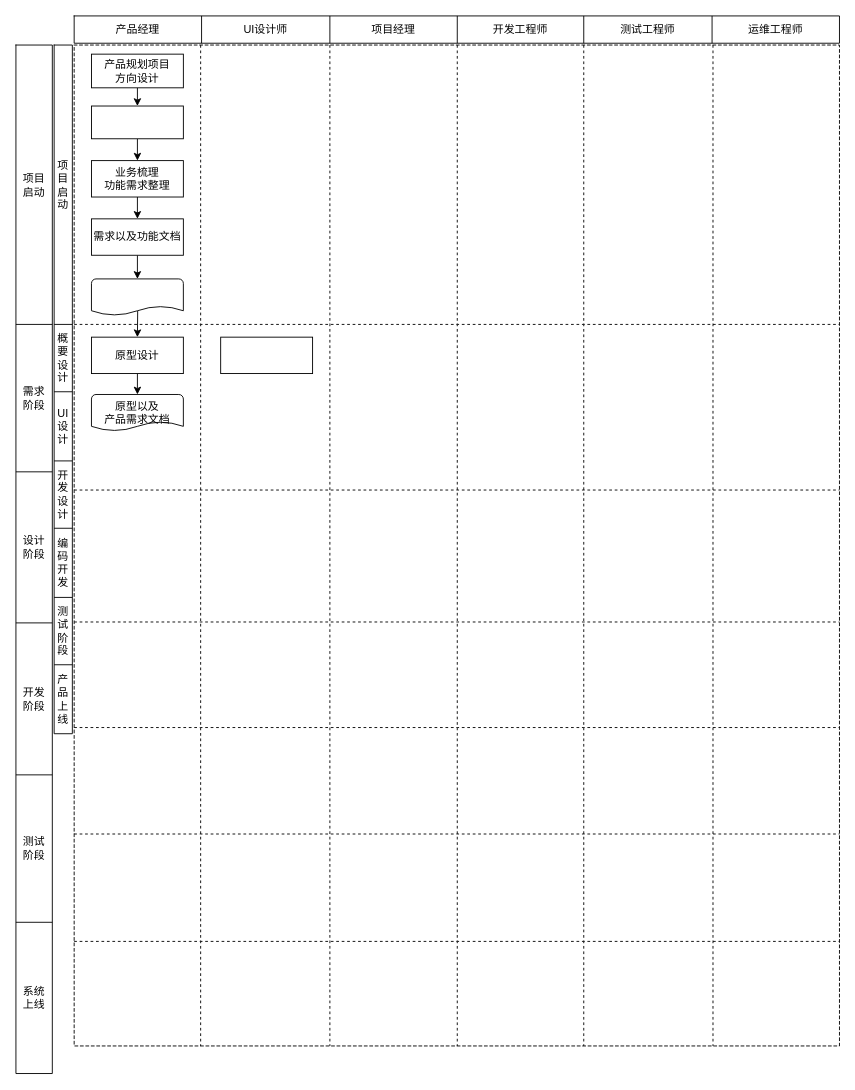
Image size: 855x1090. Some labels were removed from this diagram. The centre of each missing label's shape, as x and y in pixels:
了解需求: the point at 266,355
产品组内评审: the point at 137,296
需求调研 市场调研: the point at 137,122
